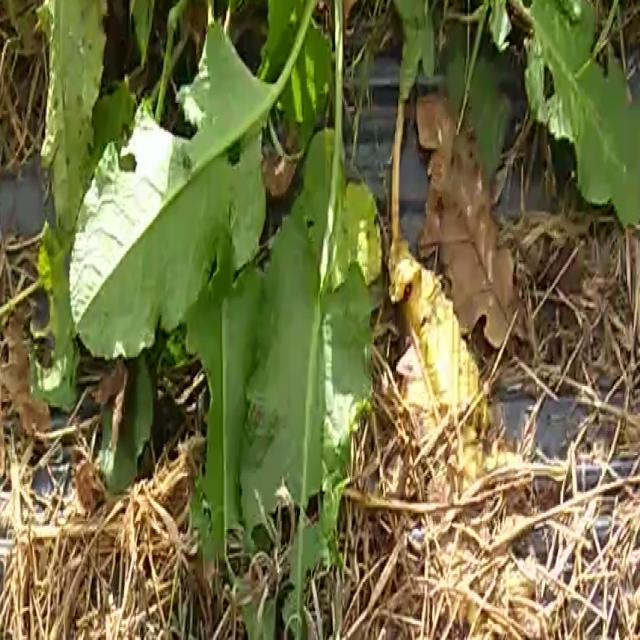organic waste: (50, 0, 408, 627), (471, 0, 640, 267)
